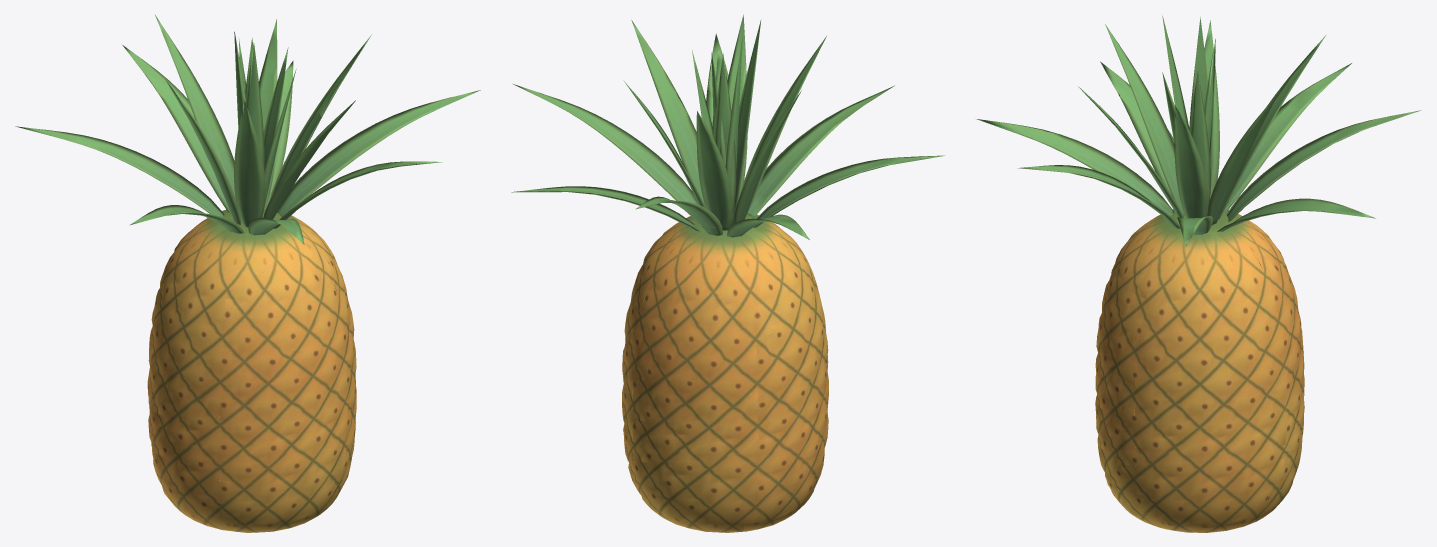
The model's file is dibujo.glb.
3 views of the same model, side by side, from view 1: azimuth 30°, elevation 25°; view 2: azimuth 150°, elevation 25°; view 3: azimuth 270°, elevation 25° (orthographic).
Visible parts, largest first — view 1: pineapple_body; view 2: pineapple_body; view 3: pineapple_body.
Part boxes in pixels (x1,y1,x2,y2): pineapple_body: (15, 15, 480, 532); pineapple_body: (511, 14, 944, 532); pineapple_body: (976, 16, 1420, 532).
Bounding box in the file's own units: 0.2496 × 0.2926 × 0.2435.
1 material, 1 textured.
